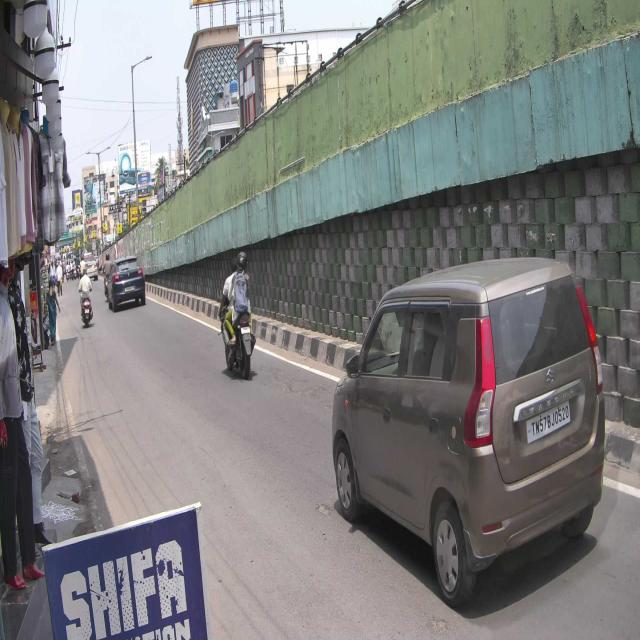double_rider: (218, 250, 257, 381)
